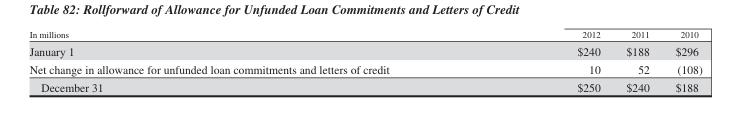table: (28, 28, 701, 93)
table column: (28, 28, 482, 93), (482, 28, 612, 93), (612, 28, 661, 93), (661, 28, 701, 93)
table column header: (28, 28, 701, 41)
table row: (28, 41, 701, 60), (28, 60, 701, 78), (28, 78, 701, 93), (28, 28, 701, 41)
